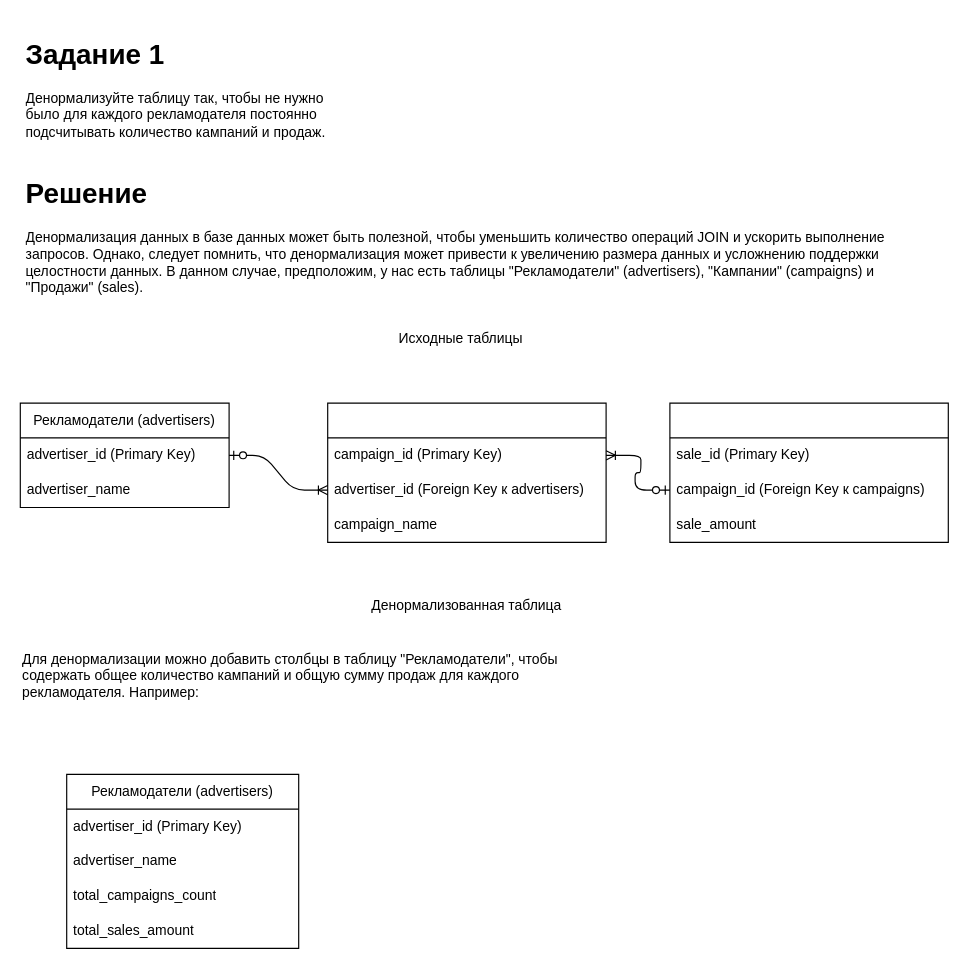
Image size: 969x969. Some labels were removed from this diagram. The shapes that lost their labels are listed below. From the top down, each one's box as (x1, y1, x2, y2) in pixels, then its label:
(327, 402, 606, 542): Кампании (campaigns)
(669, 402, 948, 542): Продажи (sales)
